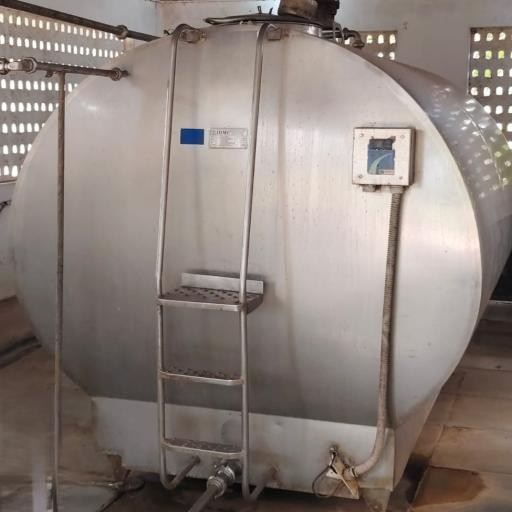silo: (9, 11, 510, 493)
